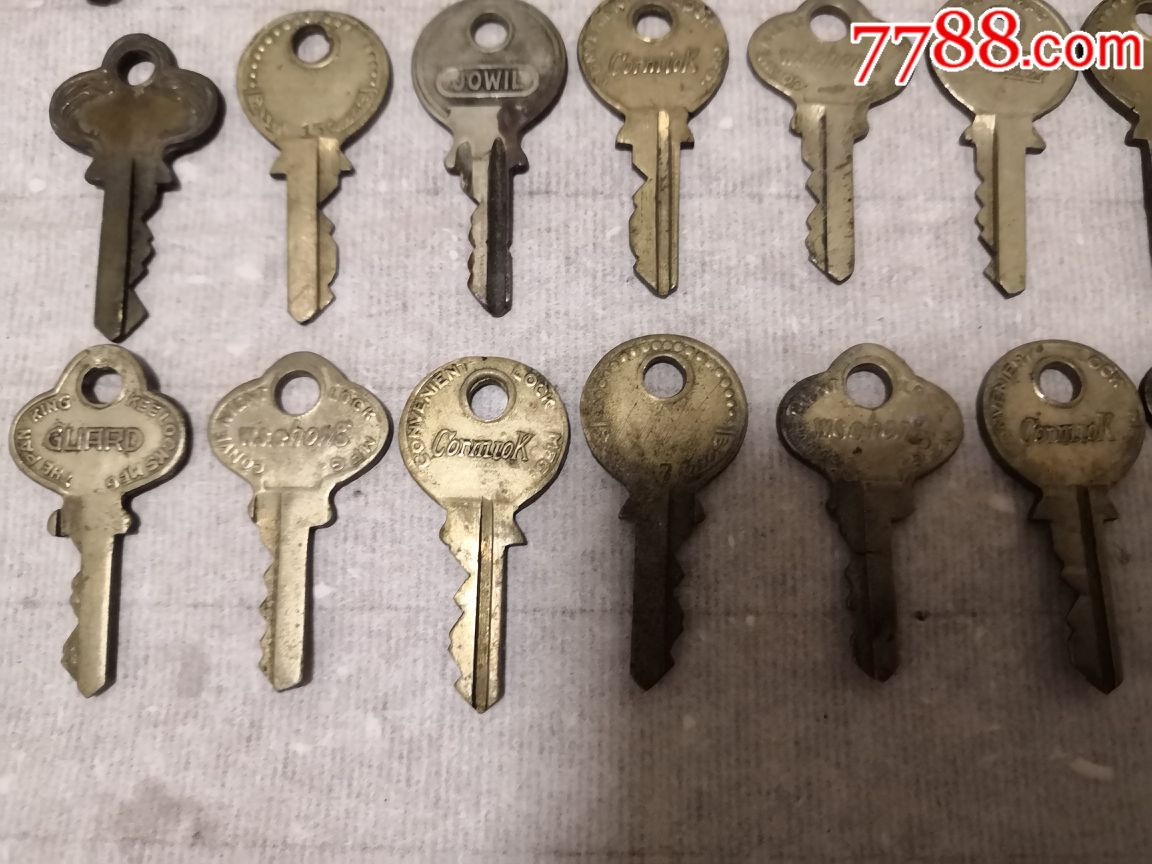key: (6, 336, 197, 709), (776, 331, 969, 697), (201, 352, 396, 707), (979, 331, 1152, 699), (402, 350, 573, 713), (591, 333, 754, 693), (43, 27, 226, 344), (234, 5, 394, 331), (413, 3, 571, 323), (571, 0, 733, 303), (930, 5, 1088, 305), (750, 5, 916, 290)
